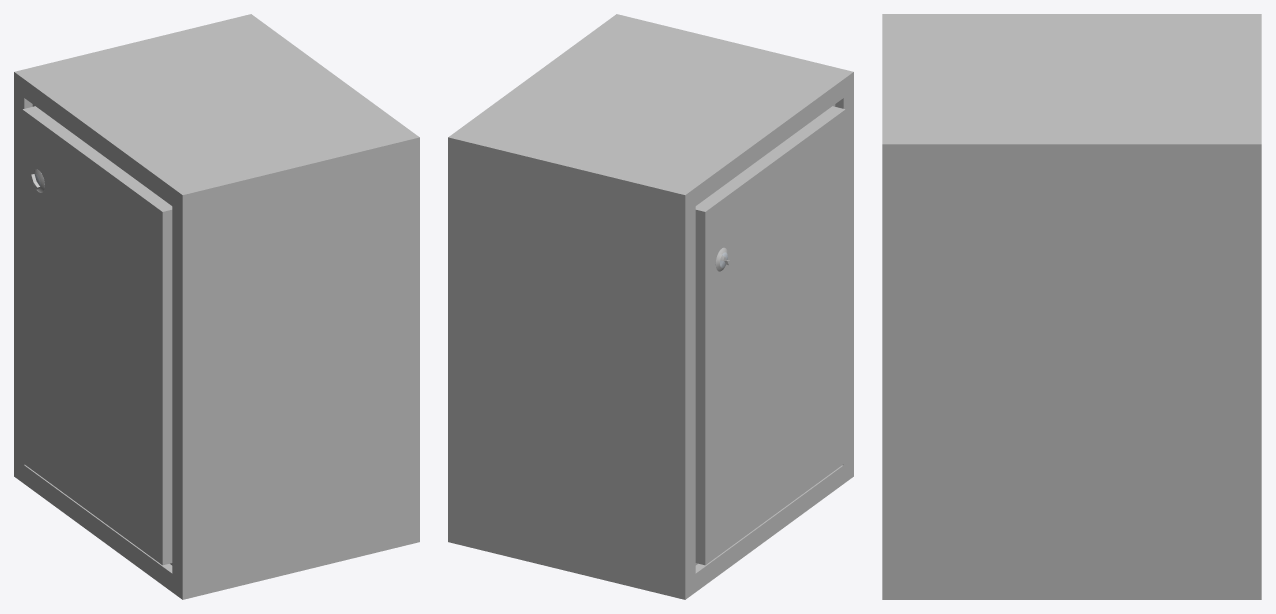
File: SM_CabinetSmall.fbx
3 renders of one model, left to right at view 1: azimuth 30°, elevation 25°; view 2: azimuth 150°, elevation 25°; view 3: azimuth 270°, elevation 25°, orthographic. The views are drawn at different scales.
Visible parts, largest first — view 1: SM_CabinetSmall_LOD0; view 2: SM_CabinetSmall_LOD0; view 3: SM_CabinetSmall_LOD0.
Boxes of the visible parts, bbox=[...] form: SM_CabinetSmall_LOD0: bbox=[14, 14, 419, 599]; SM_CabinetSmall_LOD0: bbox=[448, 14, 853, 599]; SM_CabinetSmall_LOD0: bbox=[882, 14, 1261, 599].
Size of the model in its own units: 100 by 118 by 156.
